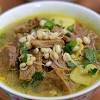soto: (1, 2, 99, 98)
